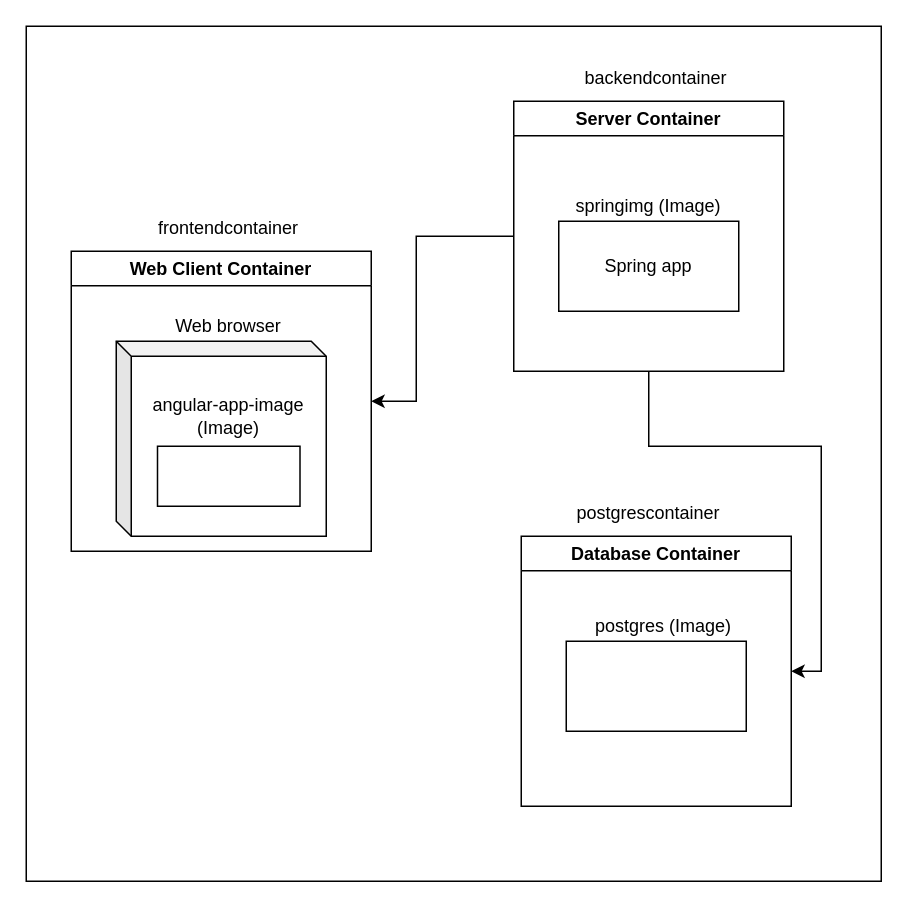
This 908x908 diagram has some shape labels left out. The centre of each missing label's shape, as x and y in pixels:
"Angular app" belongs at point (228, 475).
"Database" belongs at point (655, 685).
